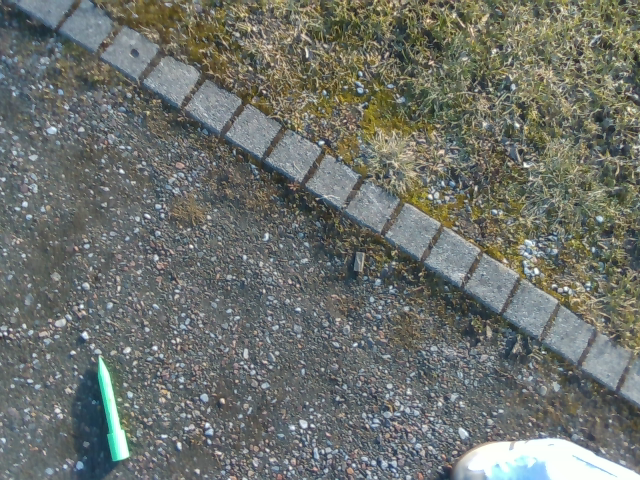Probe: (91, 347, 134, 465)
